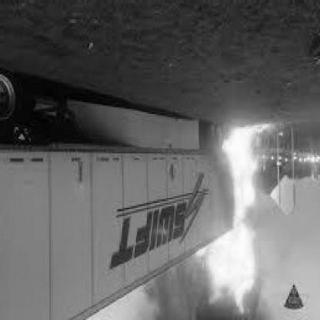Fire: (195, 122, 277, 316)
Smoke: (150, 279, 193, 319)
